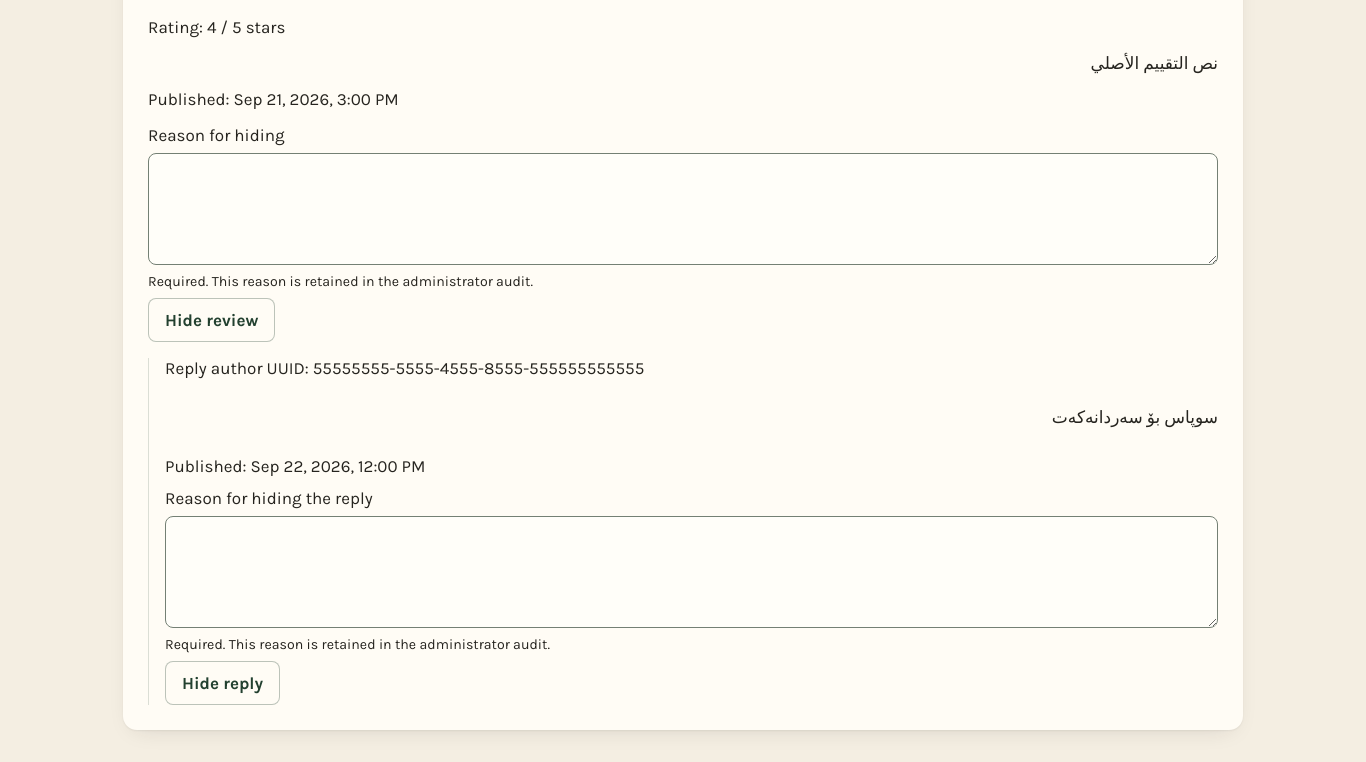
Test: CustomerReviewModeration › requires a reason for a reply, sends only mutation facts, and retains committed attribution
(page scrolled)
Expected: the element named "Cottage Owner reply" shows "Reply author UUID: 55555555-5555-4555-8555-555555555555", [148, 358, 1218, 705]
Step 1. Click the button "Hide reply" → (223, 683), box [165, 661, 280, 705]
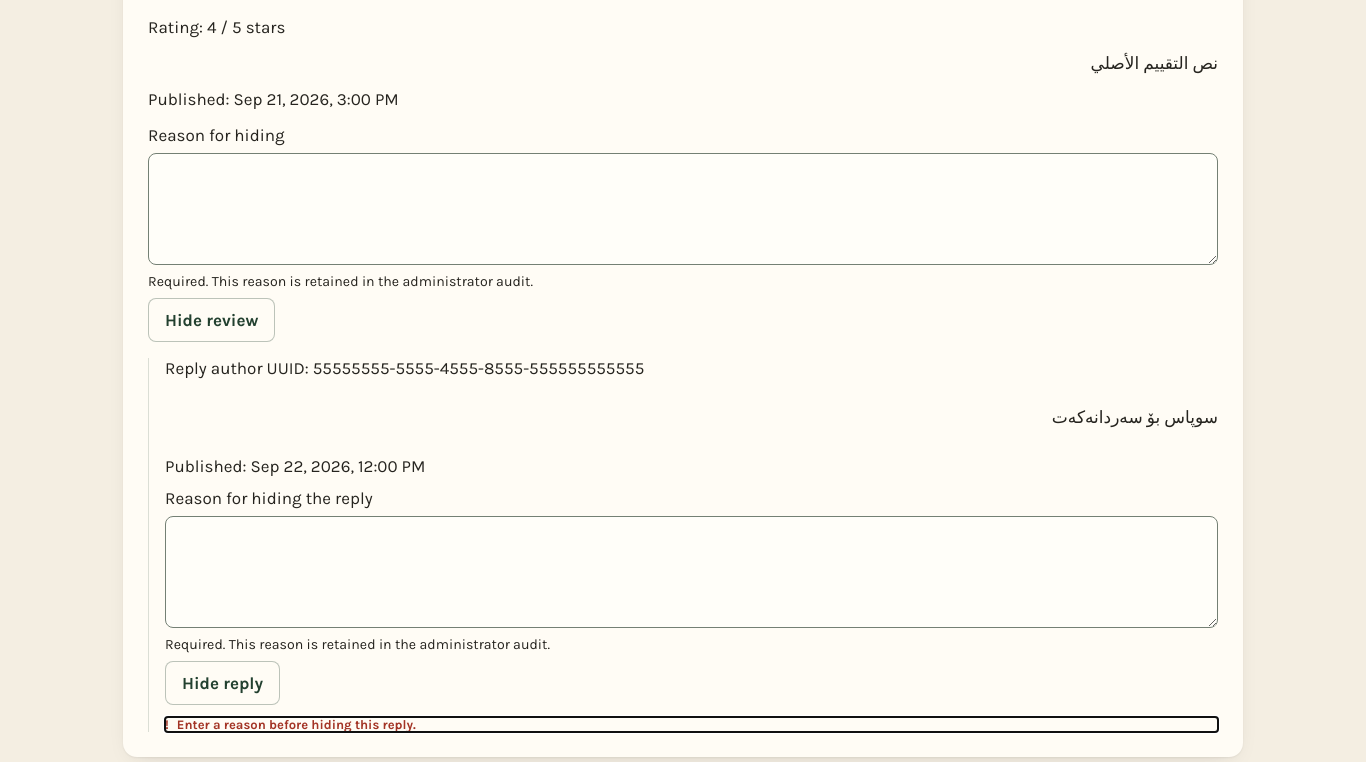
Result: the message shows "Enter a reason before hiding this reply." at [177, 717, 416, 732]
Step 2. Type "Reply names a competitor" into the text box labelled "Reason for hiding the reply" → (692, 572), box [165, 516, 1218, 628]
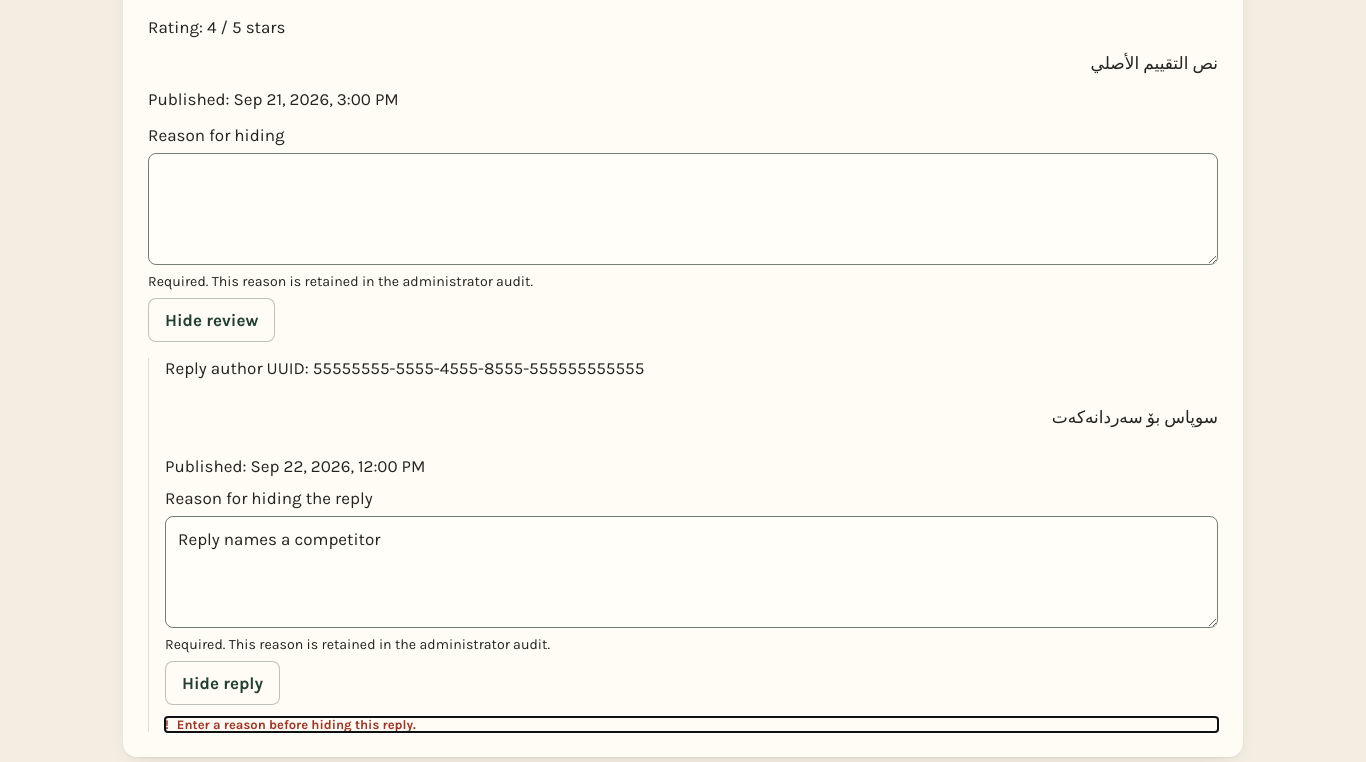
Step 3. Click the button "Hide reply" → (223, 683), box [165, 661, 280, 705]
(page scrolled)
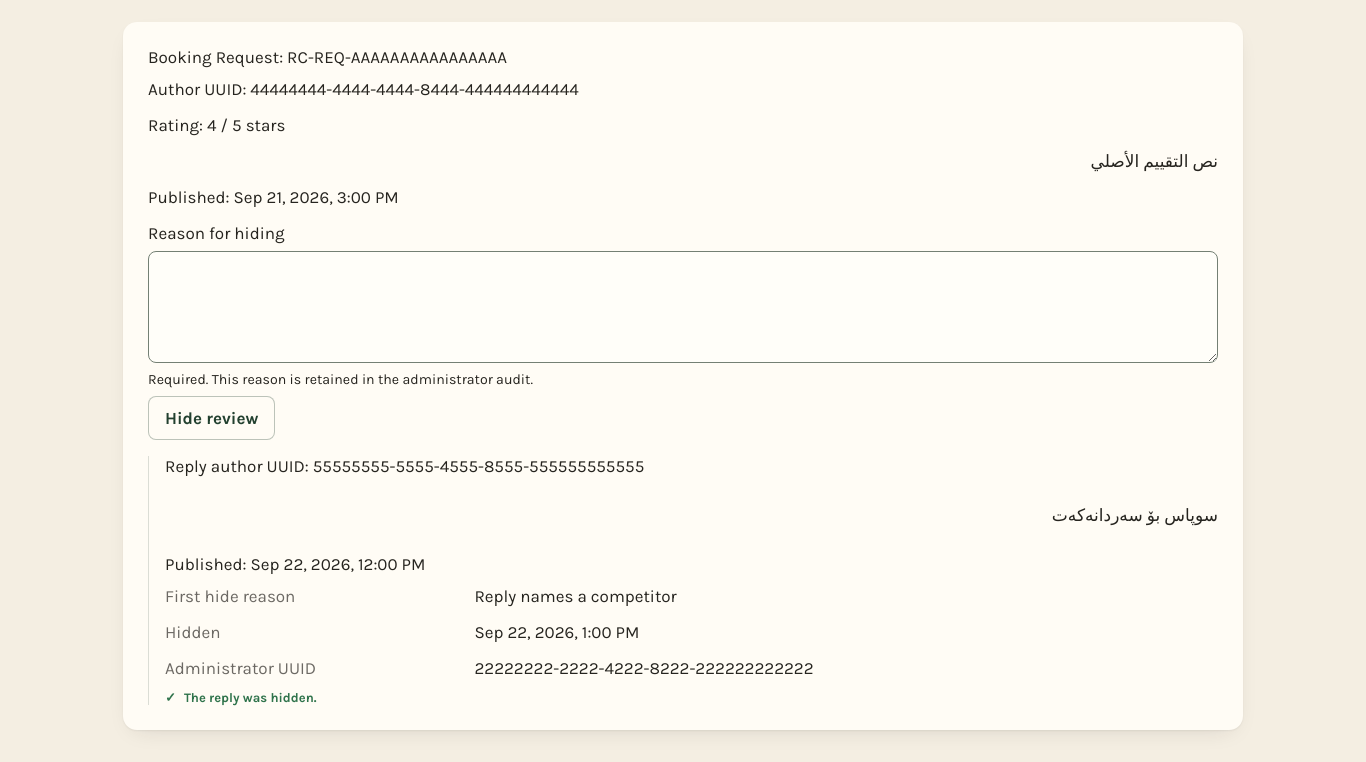
Result: the message shows "The reply was hidden." at [184, 690, 316, 705]
Result: the element named "Cottage Owner reply" shows "Reply names a competitor" at [474, 586, 677, 606]
Result: the element named "Cottage Owner reply" shows "22222222-2222-4222-8222-222222222222" at [474, 658, 814, 678]
